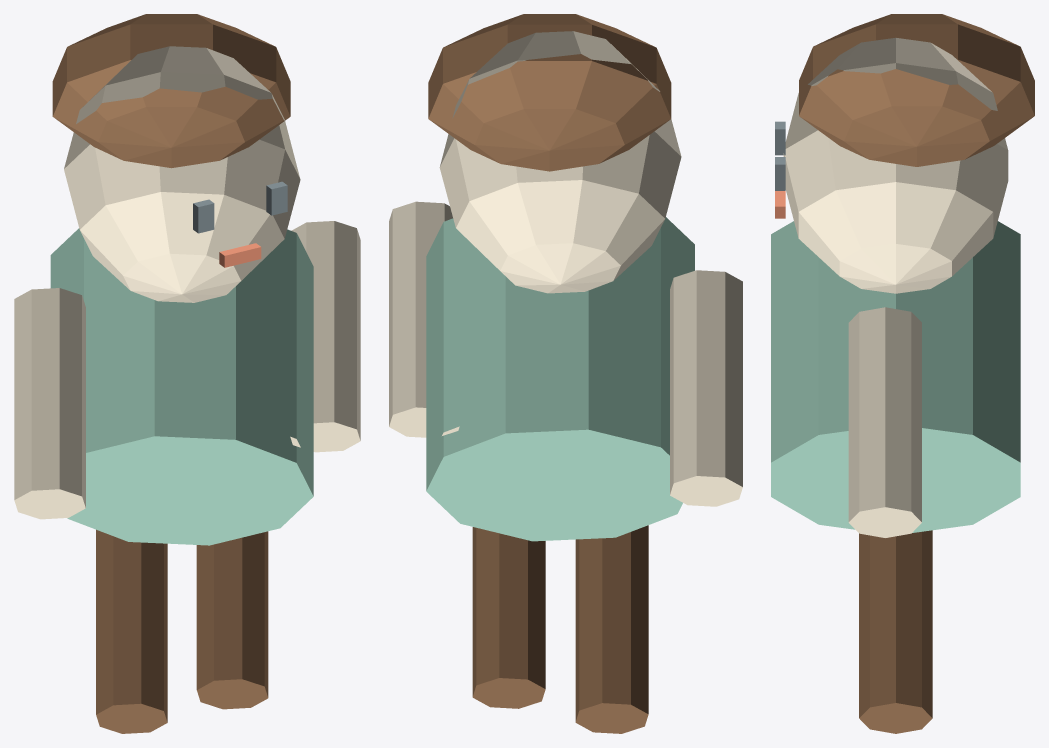
File: guest_mint.glb
The picture shows the model from 3 angles, left to right: view 1: azimuth 30°, elevation 25°; view 2: azimuth 150°, elevation 25°; view 3: azimuth 270°, elevation 25°; orthographic projection. The views are drawn at different scales.
Visible parts, largest first — view 1: guest_mint; view 2: guest_mint; view 3: guest_mint.
Part boxes in pixels (left/top/right/bottom): guest_mint: left=14, top=14, right=360, bottom=733; guest_mint: left=389, top=14, right=742, bottom=733; guest_mint: left=771, top=14, right=1034, bottom=733.
Bounding box in the file's own units: 0.74 × 1.39 × 0.5026.
